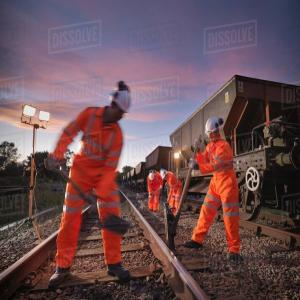white: (105, 86, 133, 126), (204, 117, 223, 144), (161, 169, 169, 181), (149, 170, 157, 182)
